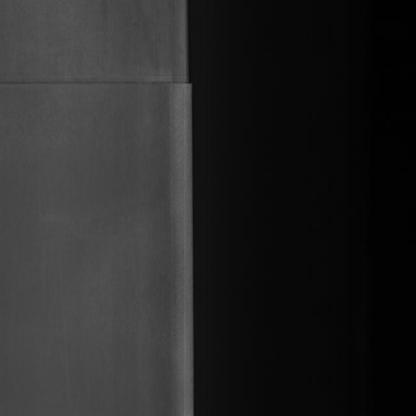welding_line: (1, 68, 206, 99)
